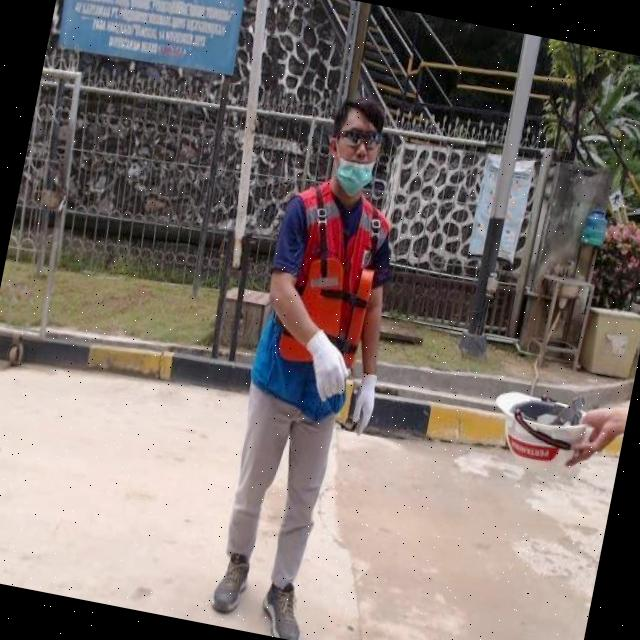boots: (255, 576, 310, 640), (208, 548, 255, 618)
helmet: (483, 384, 606, 486)
vest: (248, 169, 397, 418)
